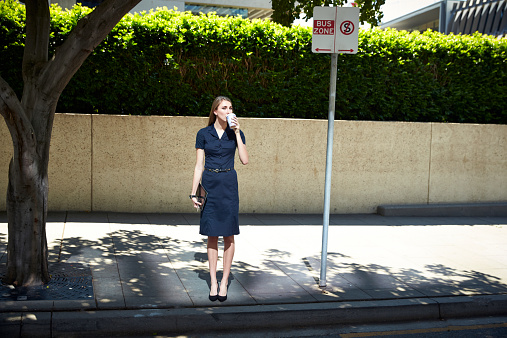em pe: (188, 94, 248, 293)
